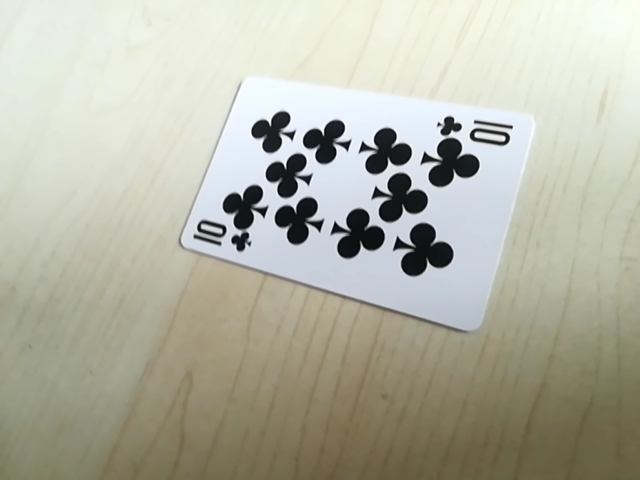mh 10: (432, 113, 522, 147), (189, 221, 254, 256)
